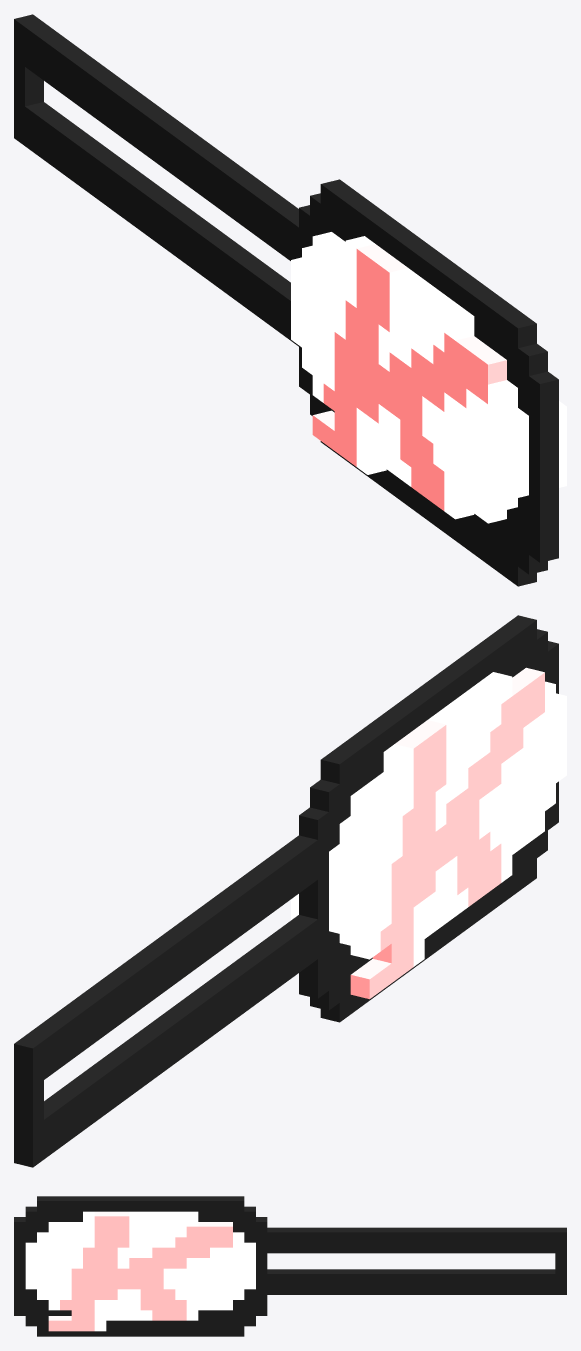
File: comicStoreSign.glb
3 views of the same model, one above another, from view 1: azimuth 30°, elevation 25°; view 2: azimuth 150°, elevation 25°; view 3: azimuth 270°, elevation 25° (orthographic). The views are drawn at different scales.
Parts seen in each view (by area): view 1: ObjObject; view 2: ObjObject; view 3: ObjObject.
Boxes of the visible parts, x1=… form: ObjObject: x1=14, y1=14, x2=566, y2=586; ObjObject: x1=14, y1=615, x2=566, y2=1167; ObjObject: x1=14, y1=1196, x2=566, y2=1336.
Size of the model in its own units: 0.3 by 1.3 by 4.8.
3 materials, 1 textured.
